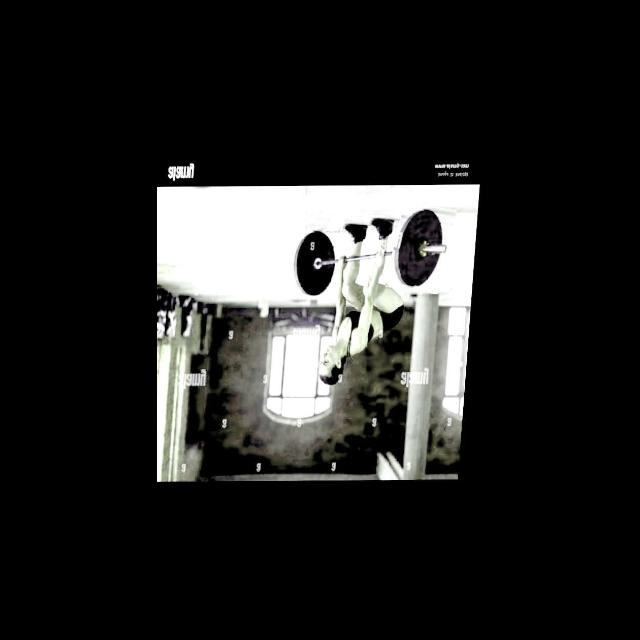barbell: (390, 205, 455, 293)
